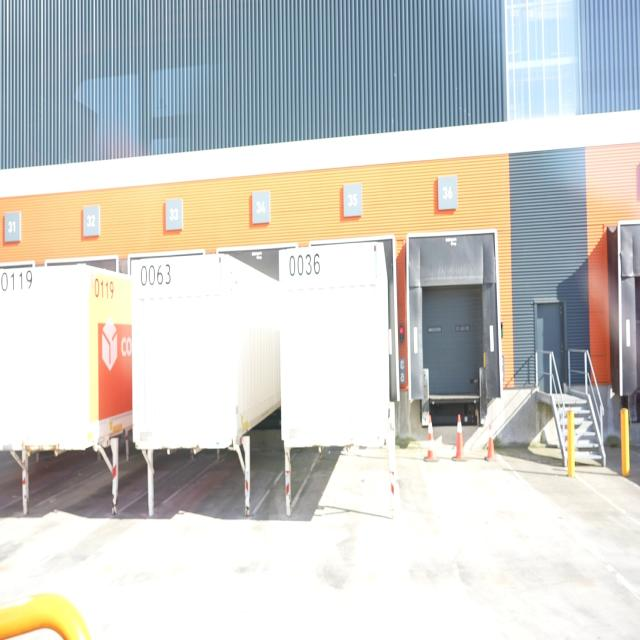Code: (288, 250, 324, 280), (0, 265, 35, 295), (137, 261, 174, 289), (92, 274, 116, 302)
